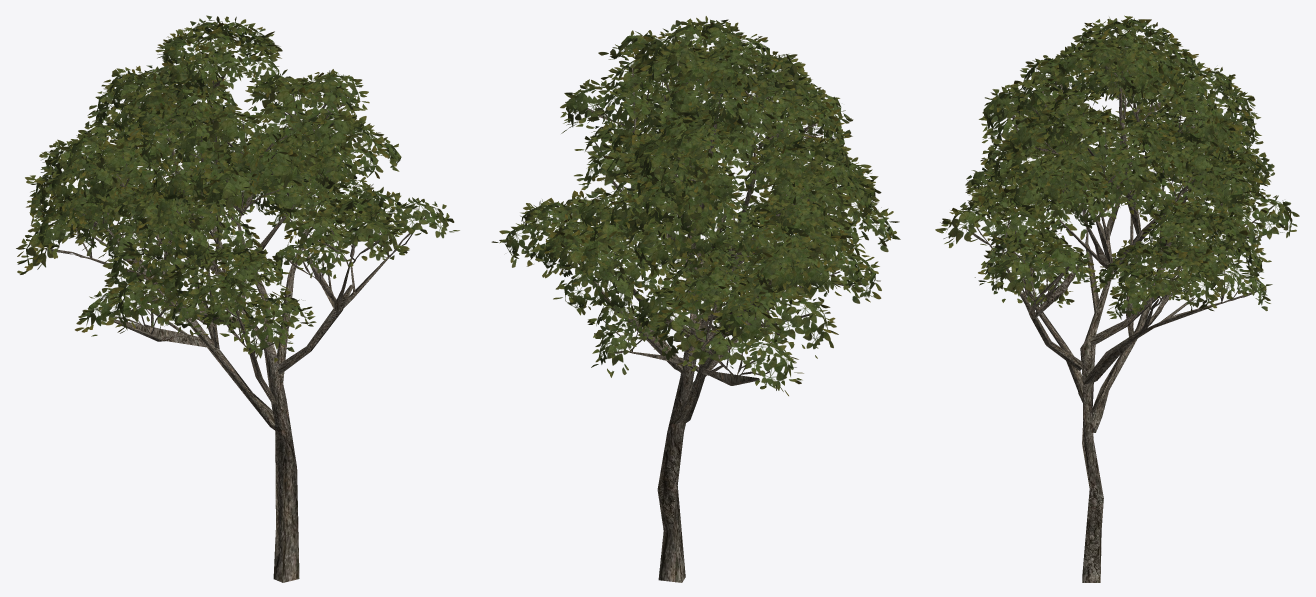
File: urban-tall.glb
3 views of the same model, side by side, from view 1: azimuth 30°, elevation 25°; view 2: azimuth 150°, elevation 25°; view 3: azimuth 270°, elevation 25° (orthographic). The views are drawn at different scales.
Parts seen in each view (by area): view 1: trunk; view 2: trunk; view 3: trunk.
Boxes of the visible parts, <box> form: trunk: <box>16,15,459,582</box>; trunk: <box>491,16,900,582</box>; trunk: <box>935,15,1299,582</box>.
Size of the model in its own units: 629 by 945 by 594.
Materials: 2 (2 with a texture image).
